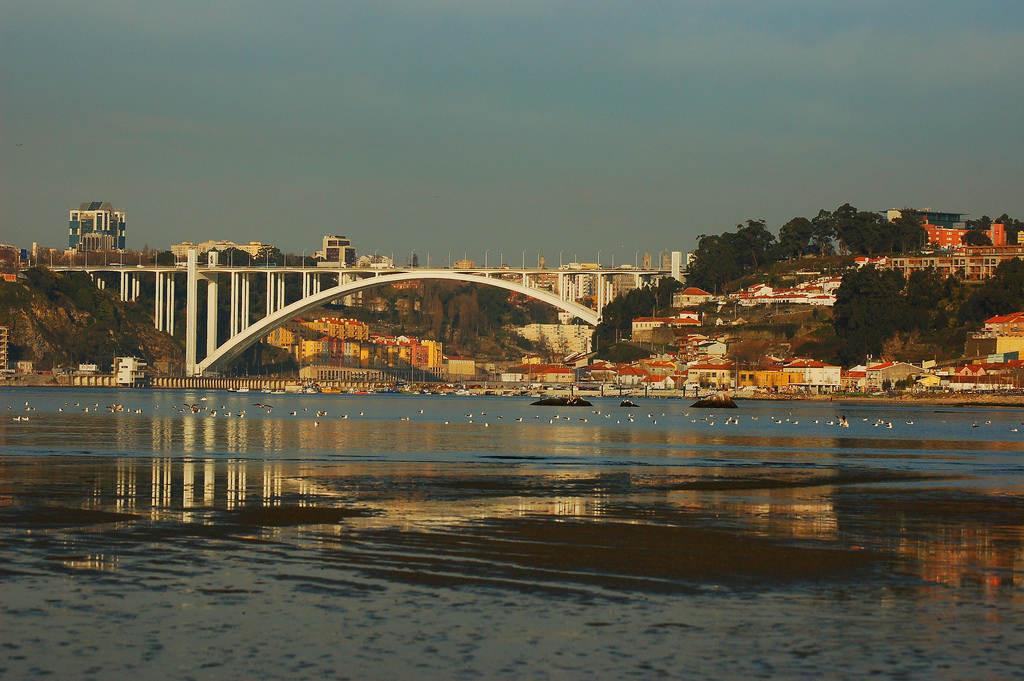arrabida: (41, 247, 696, 380)
